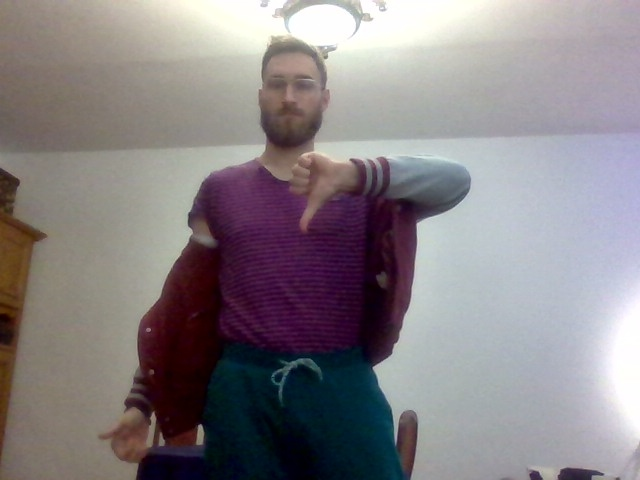ThumbsDown: (288, 152, 338, 233)
